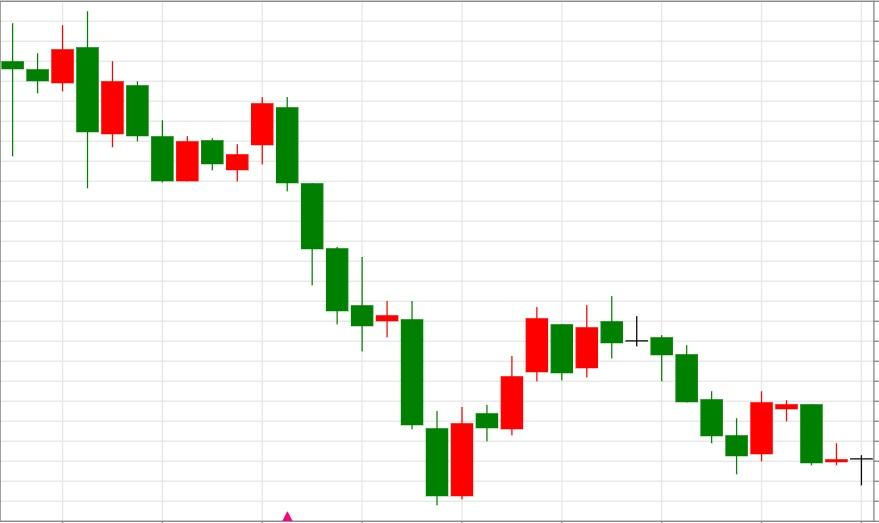bearish_engulfing_fall: (150, 97, 300, 192)
bullish_engulfing_rise: (250, 97, 475, 506)
